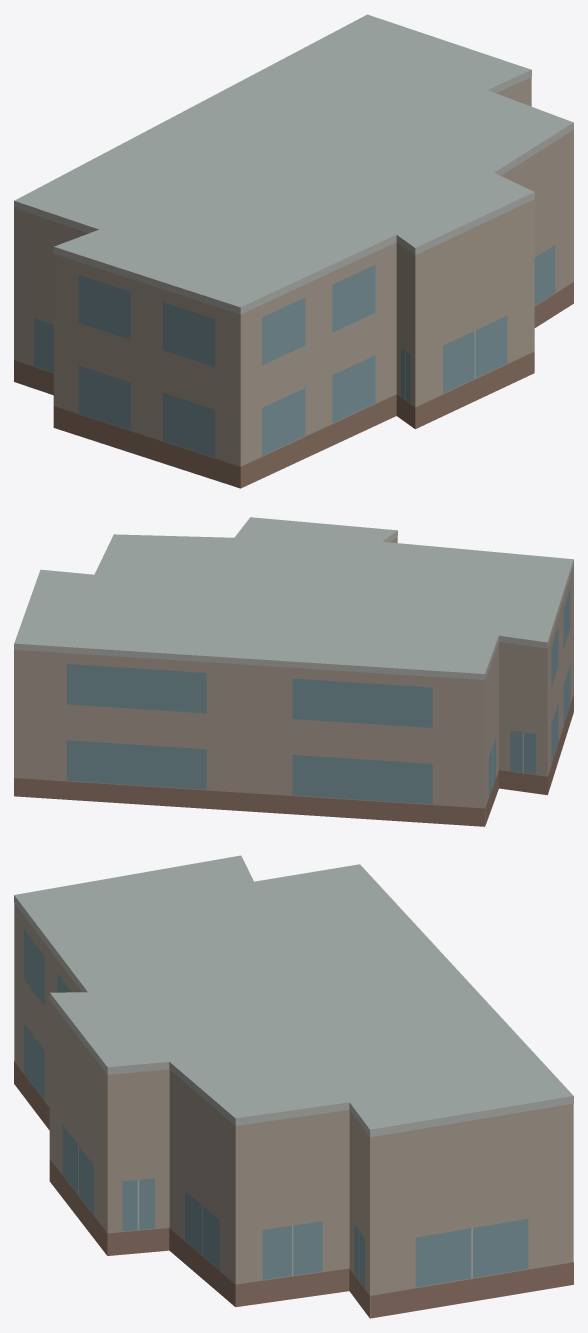
Rendered from survey-upis-32904825.glb.
3 renders of one model, top to bottom at view 1: azimuth 30°, elevation 25°; view 2: azimuth 150°, elevation 25°; view 3: azimuth 270°, elevation 25°, orthographic. The views are drawn at different scales.
Visible parts, largest first — view 1: survey-upis-32904825.tmp; view 2: survey-upis-32904825.tmp; view 3: survey-upis-32904825.tmp.
Boxes of the visible parts, x1=… form: survey-upis-32904825.tmp: x1=14, y1=14, x2=573, y2=488; survey-upis-32904825.tmp: x1=14, y1=517, x2=573, y2=826; survey-upis-32904825.tmp: x1=14, y1=855, x2=573, y2=1318.
Size of the model in its own units: 19.04 by 6.1 by 16.41.
